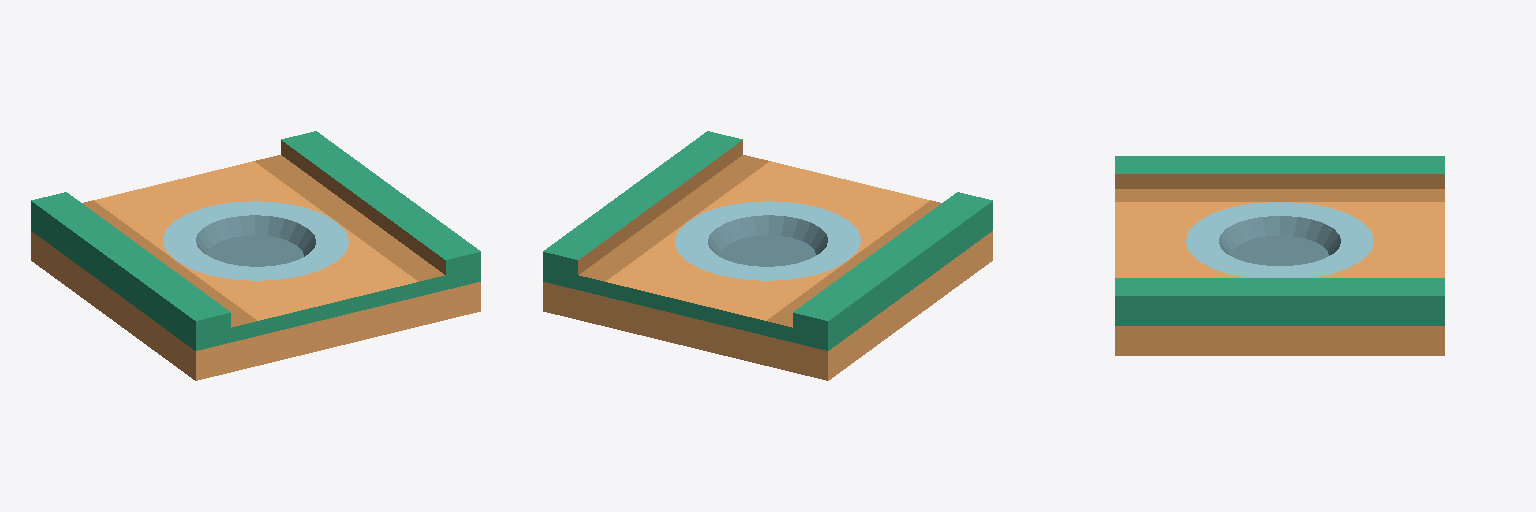
3 views of the same model, side by side, from view 1: azimuth 30°, elevation 25°; view 2: azimuth 150°, elevation 25°; view 3: azimuth 270°, elevation 25° (orthographic).
Parts seen in each view (by area): view 1: tile_spawnRound; view 2: tile_spawnRound; view 3: tile_spawnRound.
Part boxes in pixels (bbox=[...]): tile_spawnRound: bbox=[31, 131, 480, 380]; tile_spawnRound: bbox=[543, 131, 992, 380]; tile_spawnRound: bbox=[1115, 156, 1444, 355].
Bounding box in the file's own units: 1 × 0.2 × 1.